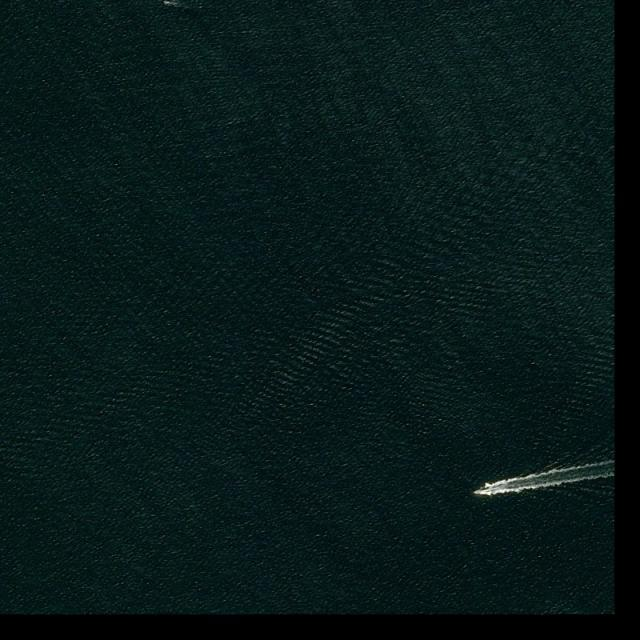ship: (472, 488, 491, 496), (163, 0, 175, 6)
